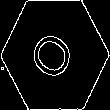O_SE: (27, 24, 83, 86)
